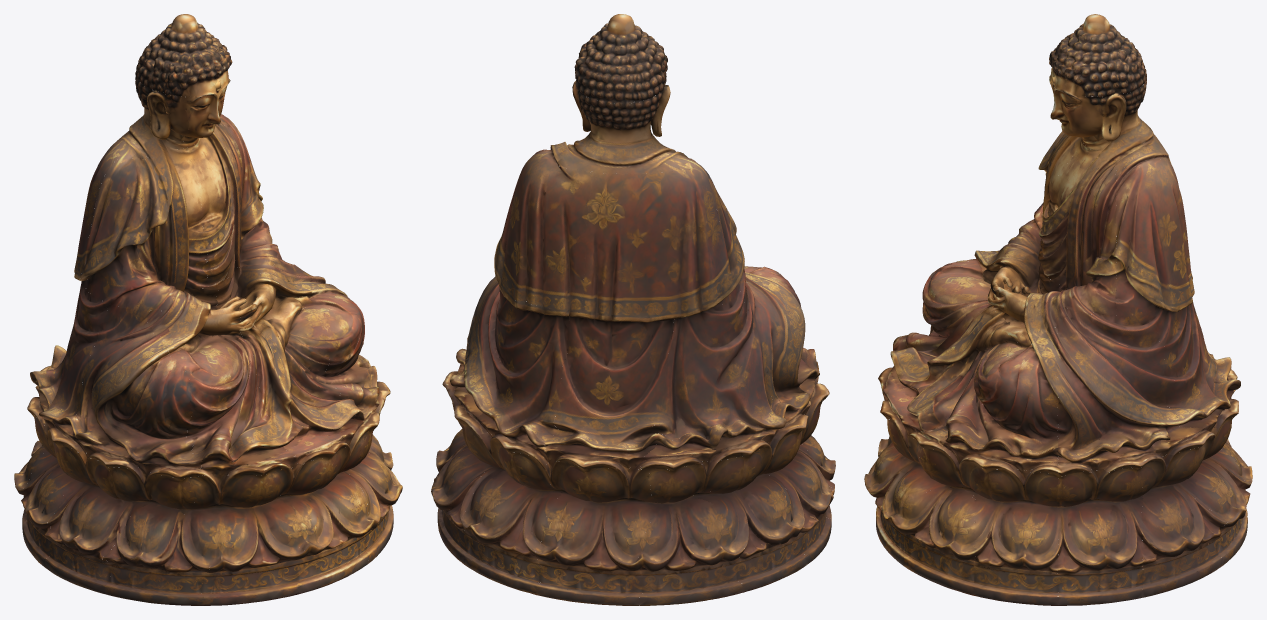
Rendered from hi3d-buddha.glb.
3 views of the same model, side by side, from view 1: azimuth 30°, elevation 25°; view 2: azimuth 150°, elevation 25°; view 3: azimuth 270°, elevation 25° (orthographic). The views are drawn at different scales.
Visible parts, largest first — view 1: buddha; view 2: buddha; view 3: buddha.
Part boxes in pixels (left/top/right/bottom): buddha: left=14, top=14, right=402, bottom=605; buddha: left=431, top=14, right=835, bottom=605; buddha: left=864, top=14, right=1252, bottom=605.
Size of the model in its own units: 2.3 by 3.3 by 2.29.
1 material, 1 textured.
